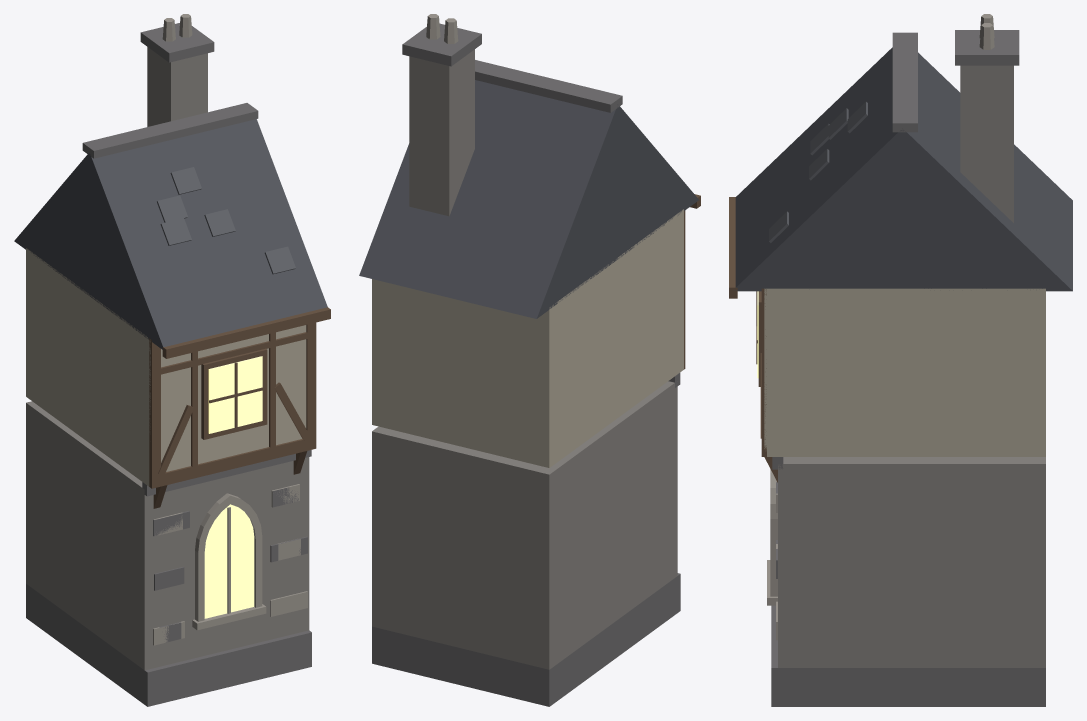
Rendered from range_window.glb.
3 views of the same model, side by side, from view 1: azimuth 30°, elevation 25°; view 2: azimuth 150°, elevation 25°; view 3: azimuth 270°, elevation 25° (orthographic). The views are drawn at different scales.
Visible parts, largest first — view 1: Upper, Plinth; view 2: Upper, Plinth; view 3: Upper, Plinth.
Boxes of the visible parts, bbox=[...] form: Upper: bbox=[14, 14, 330, 670]; Plinth: bbox=[26, 584, 311, 706]; Upper: bbox=[359, 14, 700, 669]; Plinth: bbox=[372, 573, 680, 706]; Upper: bbox=[729, 14, 1072, 667]; Plinth: bbox=[771, 605, 1045, 706].
Size of the model in its own units: 4 by 13.67 by 6.41.
